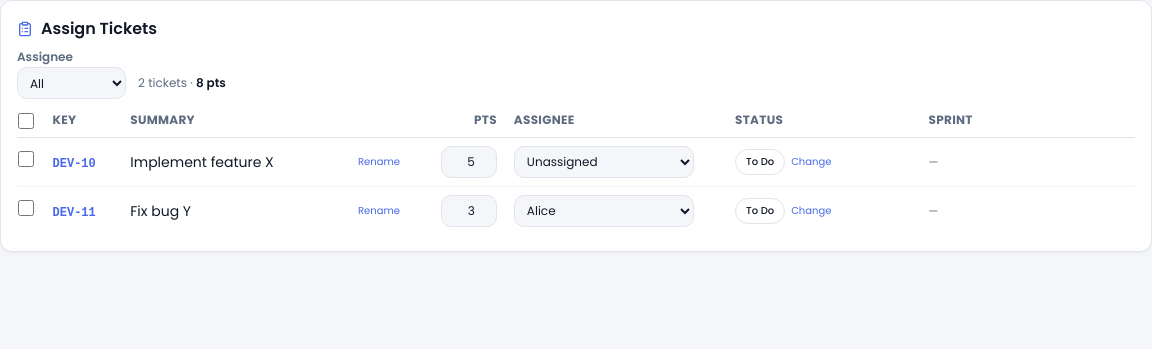
Test: AssignmentList — v1.37 bulk assign › Apply is disabled until a developer is chosen
The image size is (1152, 349).
Click the checkbox named "Select DEV-10". click: (26, 159)
box: [18,151,34,167]
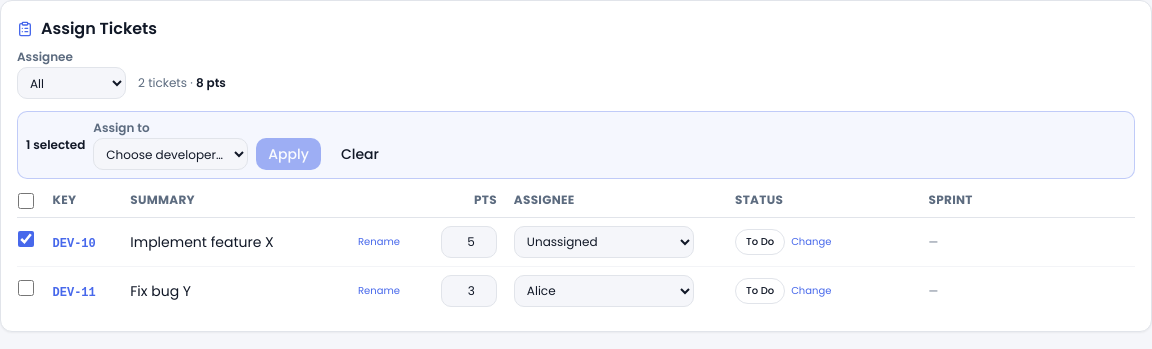
Now the button "Apply" is disabled, box [256,138,321,170]
Select "Alice" in the dropdown named "Bulk assign selected tickets to a developer". click: (171, 154)
box: [93,138,248,170]
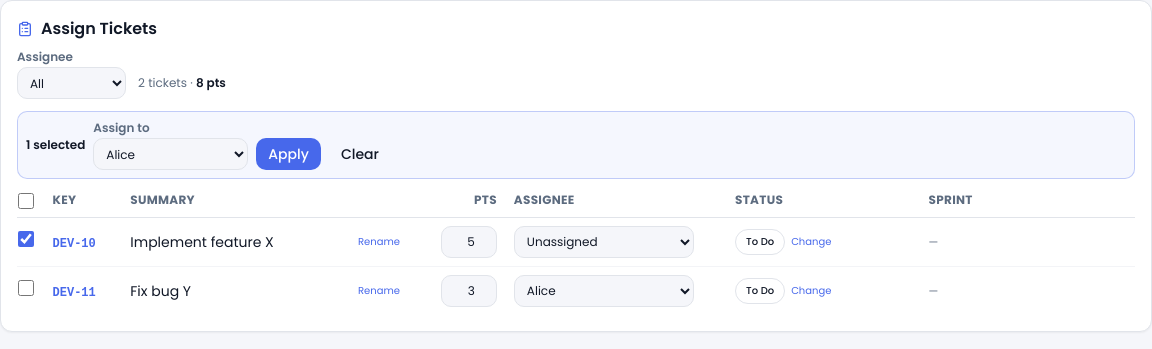
Now the button "Apply" is enabled, box [256,138,321,170]
